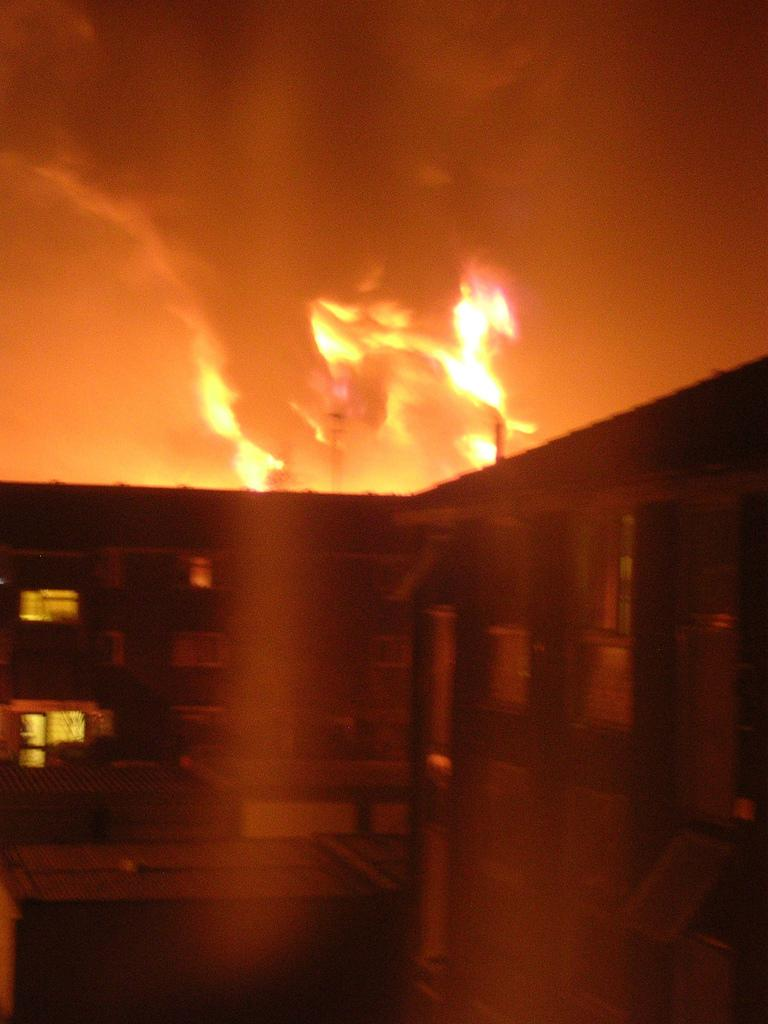fire: (325, 275, 510, 458)
